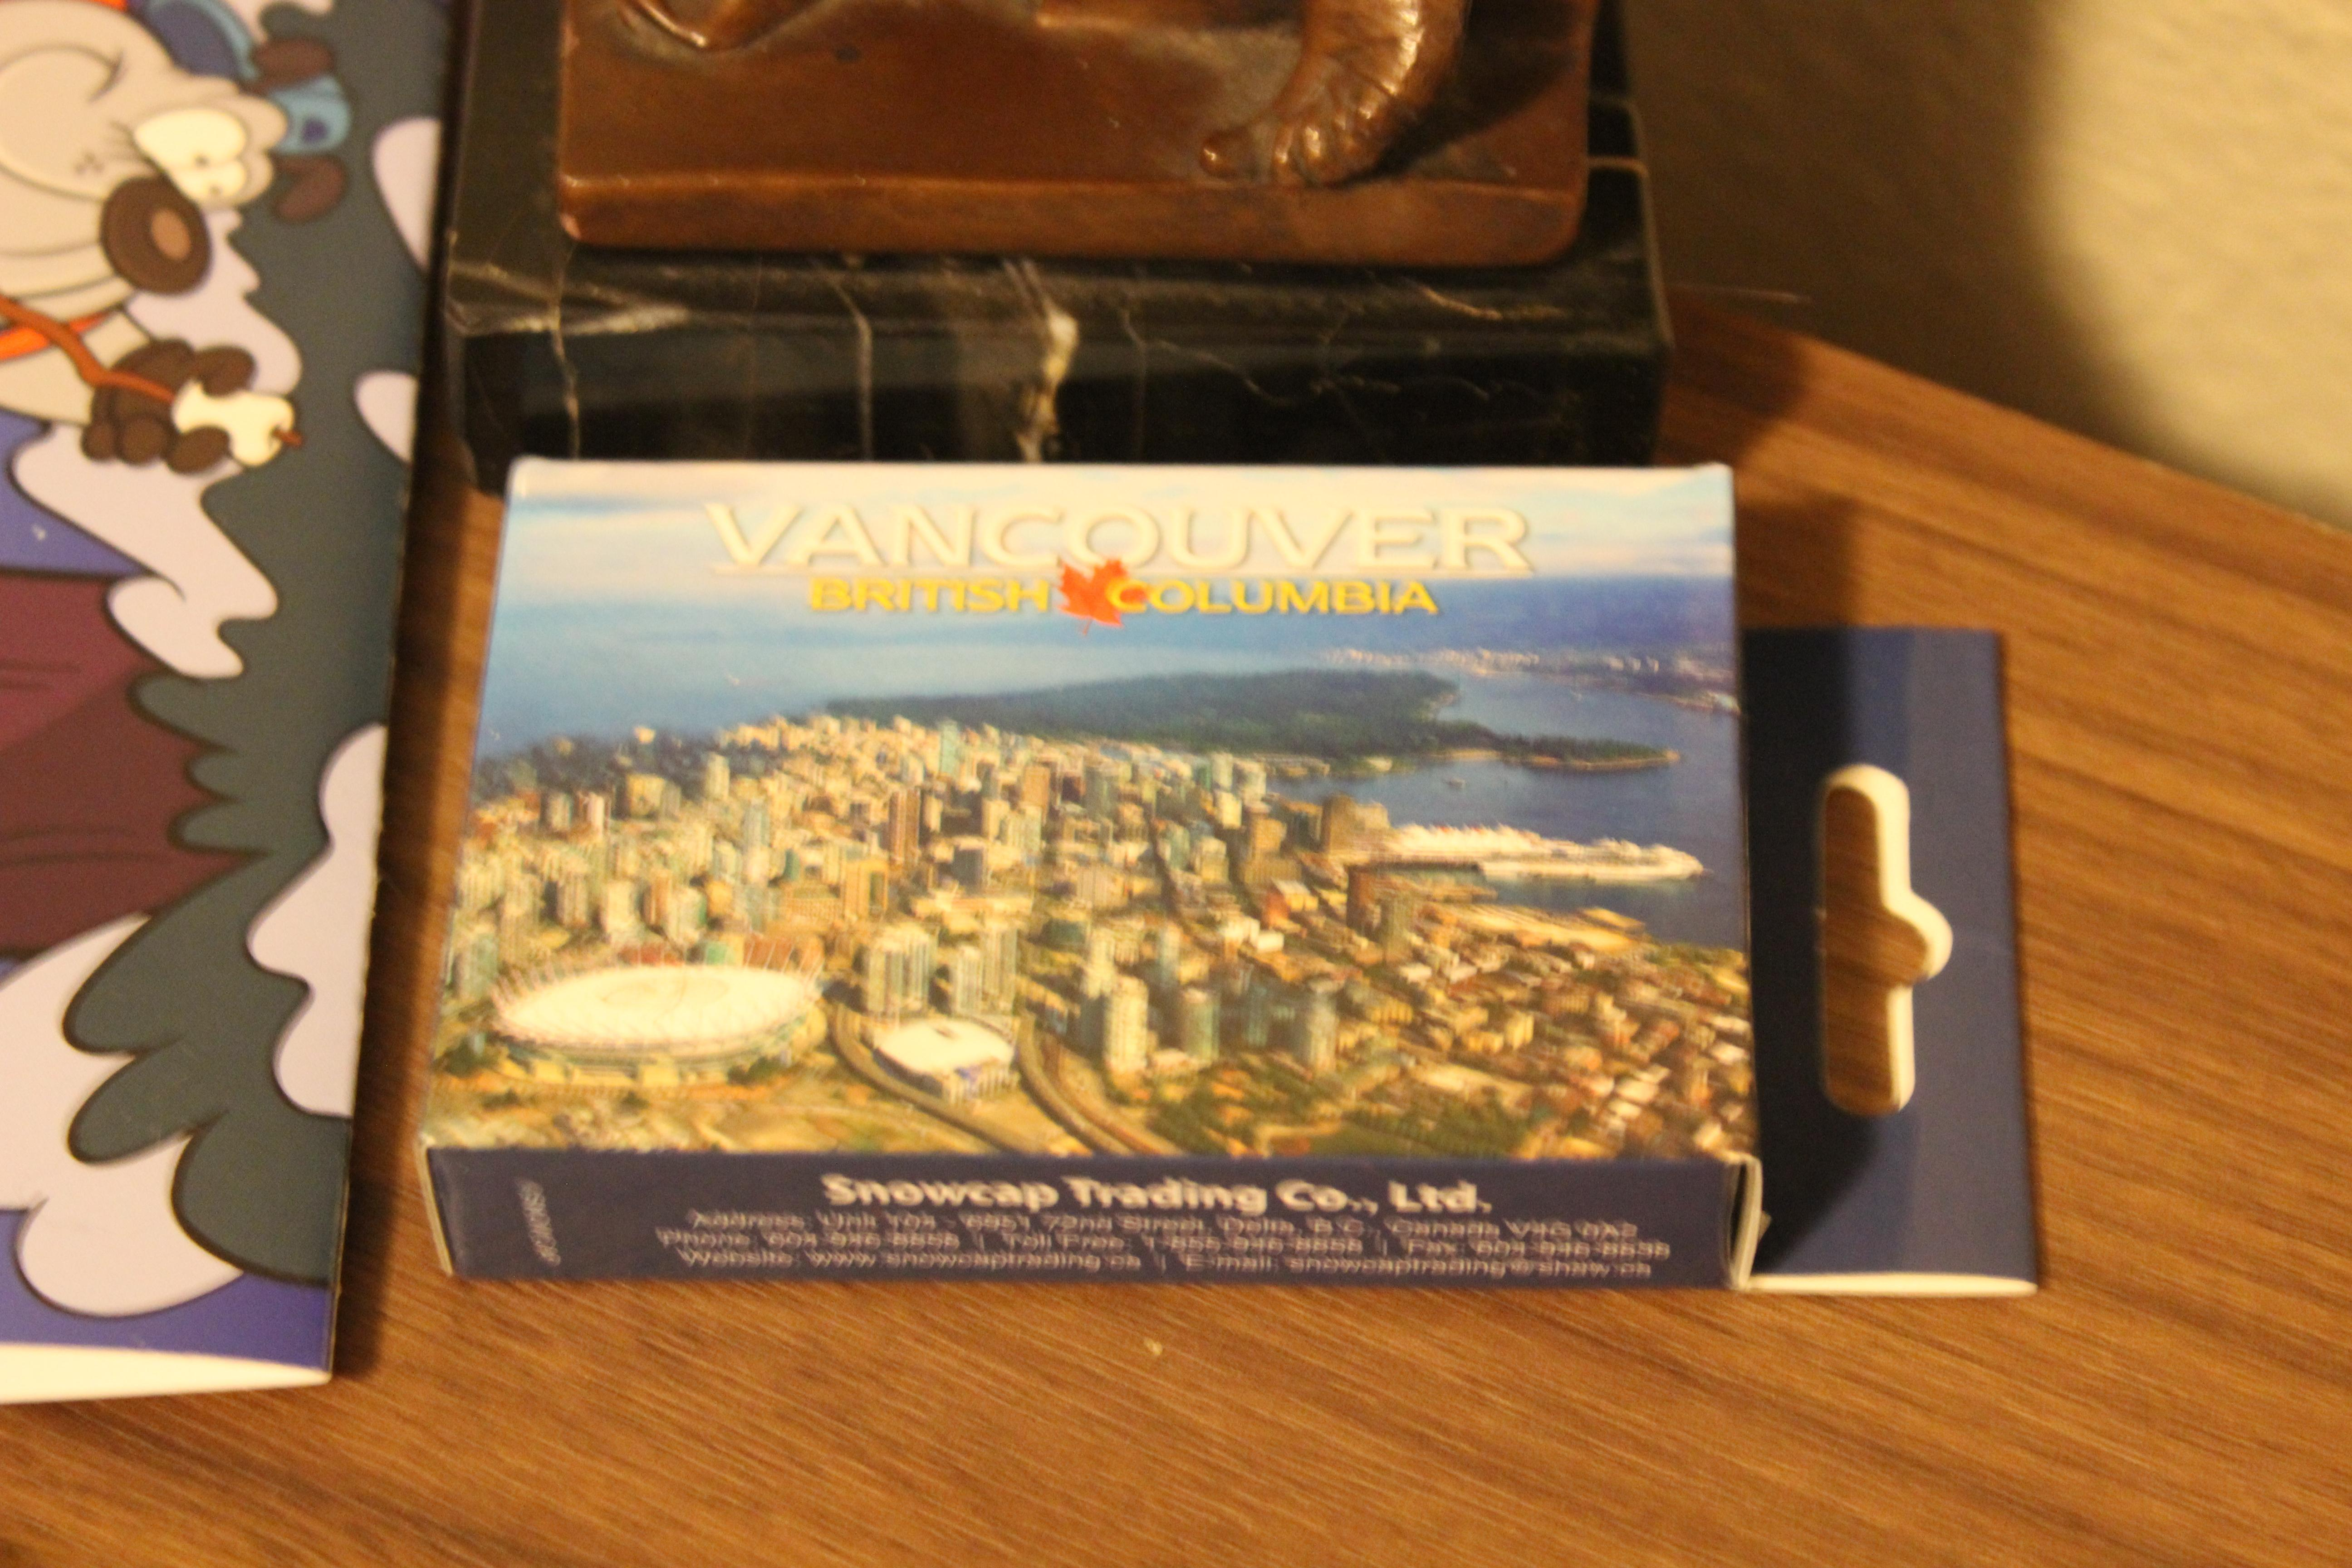vancouverCards: (369, 390, 2107, 1344)
